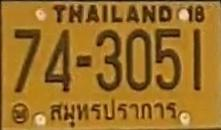0: (124, 28, 150, 90)
1: (192, 28, 200, 90)
3: (95, 29, 121, 90)
4: (43, 28, 70, 91)
5: (154, 28, 181, 90)
7: (13, 28, 40, 92)
SPK: (52, 97, 179, 125)
